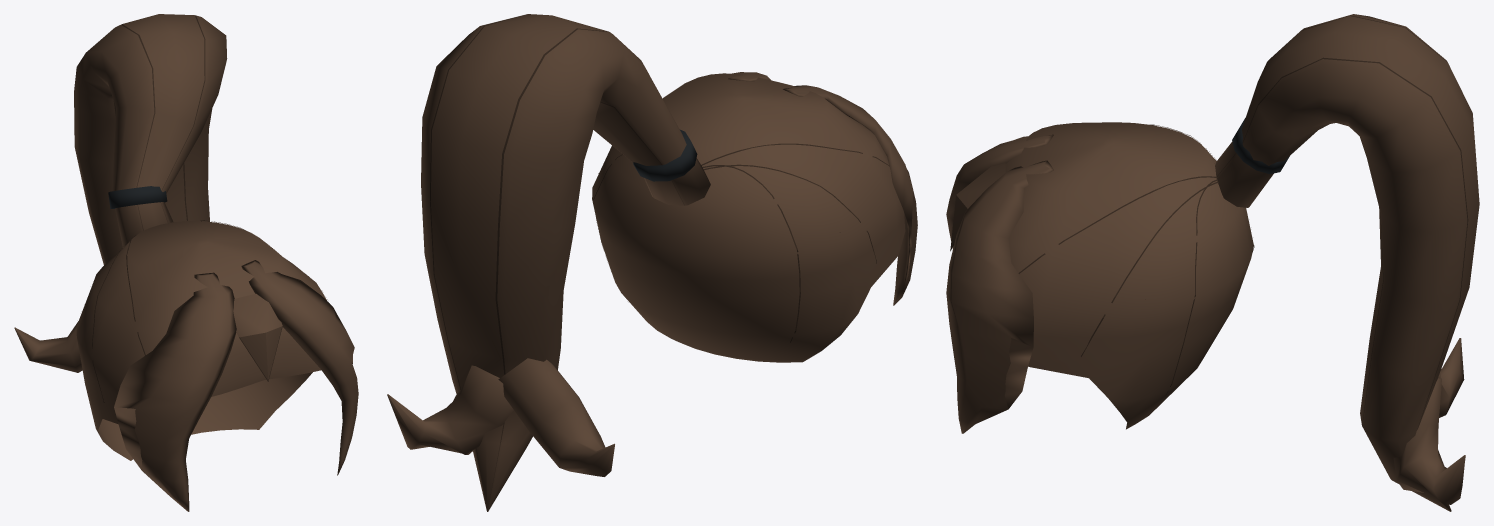
File: hair-nova.glb
3 renders of one model, left to right at view 1: azimuth 30°, elevation 25°; view 2: azimuth 150°, elevation 25°; view 3: azimuth 270°, elevation 25°, orthographic. The views are drawn at different scales.
Visible parts, largest first — view 1: hair-nova_ref2_hair-nova__head_mesh; view 2: hair-nova_ref2_hair-nova__head_mesh; view 3: hair-nova_ref2_hair-nova__head_mesh.
Boxes of the visible parts, box(x1,y1,x2,y2) form: hair-nova_ref2_hair-nova__head_mesh: box(14, 14, 358, 511); hair-nova_ref2_hair-nova__head_mesh: box(387, 14, 917, 511); hair-nova_ref2_hair-nova__head_mesh: box(946, 14, 1479, 511).
Size of the model in its own units: 0.4857 by 0.6722 by 0.6835.
